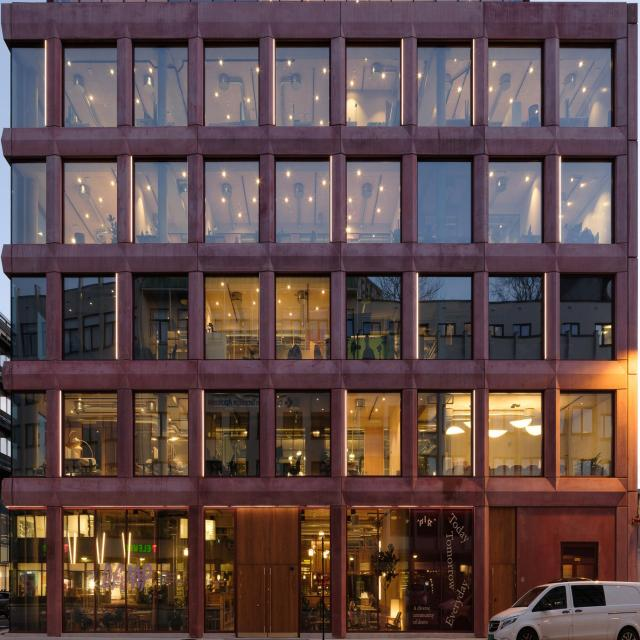door: (237, 564, 299, 640)
window: (347, 504, 473, 633), (64, 509, 188, 634), (420, 273, 475, 359), (560, 45, 614, 126), (488, 48, 542, 129), (346, 45, 400, 126), (205, 45, 259, 126), (133, 44, 187, 125), (417, 158, 471, 239), (275, 158, 329, 239), (63, 162, 117, 243), (491, 280, 545, 361), (279, 273, 333, 354), (135, 276, 189, 357), (65, 277, 119, 358), (489, 399, 543, 480), (133, 395, 187, 476), (418, 42, 472, 122), (276, 42, 330, 122), (63, 46, 117, 126), (559, 162, 613, 242), (487, 165, 541, 245), (346, 162, 400, 242), (204, 162, 258, 242), (133, 161, 187, 241), (563, 277, 617, 357), (349, 277, 403, 357), (207, 277, 261, 357), (561, 396, 615, 476), (419, 393, 473, 473), (347, 396, 401, 476), (277, 393, 331, 473), (205, 396, 259, 476), (63, 397, 117, 477), (299, 508, 333, 635), (12, 508, 47, 630), (205, 506, 235, 635), (12, 42, 44, 126), (12, 159, 44, 243), (14, 274, 46, 358), (12, 393, 44, 477), (563, 548, 598, 581)
